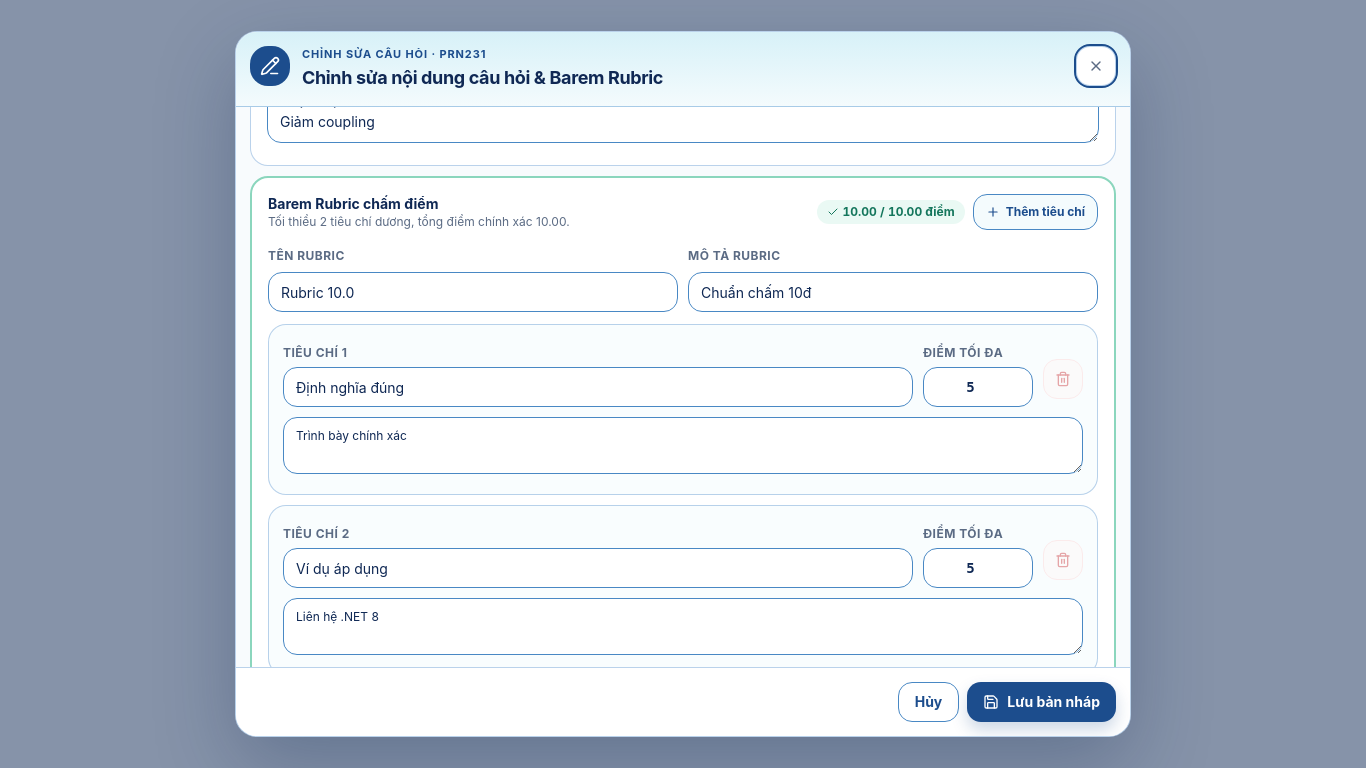
Test case: EditQuestionDraftDialog — MF-05 SELECTED_CLOS CLO guard › rejects 1e-9 (< 0.01) and 5.000000001 criterion scores so maxScore=0 is never submitted
(page scrolled)
Expected: the button "Lưu bản nháp" is enabled, 967,682 -> 1116,722
Replace the text in the 1st number field labelled "Điểm tối đa" with "1e-9". click: coordinates (978, 387)
box: 923,367 -> 1033,407
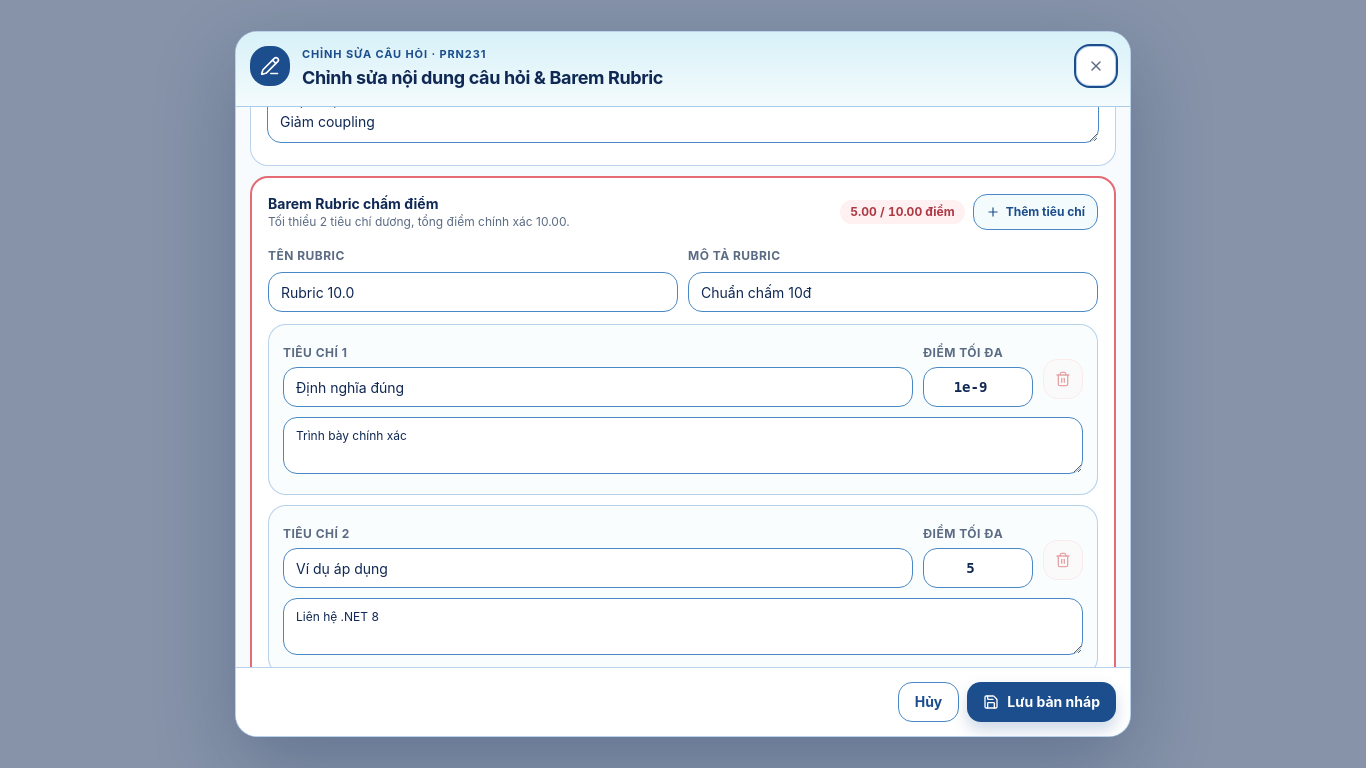
Replace the text in the 2nd number field labelled "Điểm tối đa" with "10". click: coordinates (978, 568)
box: 923,548 -> 1033,588
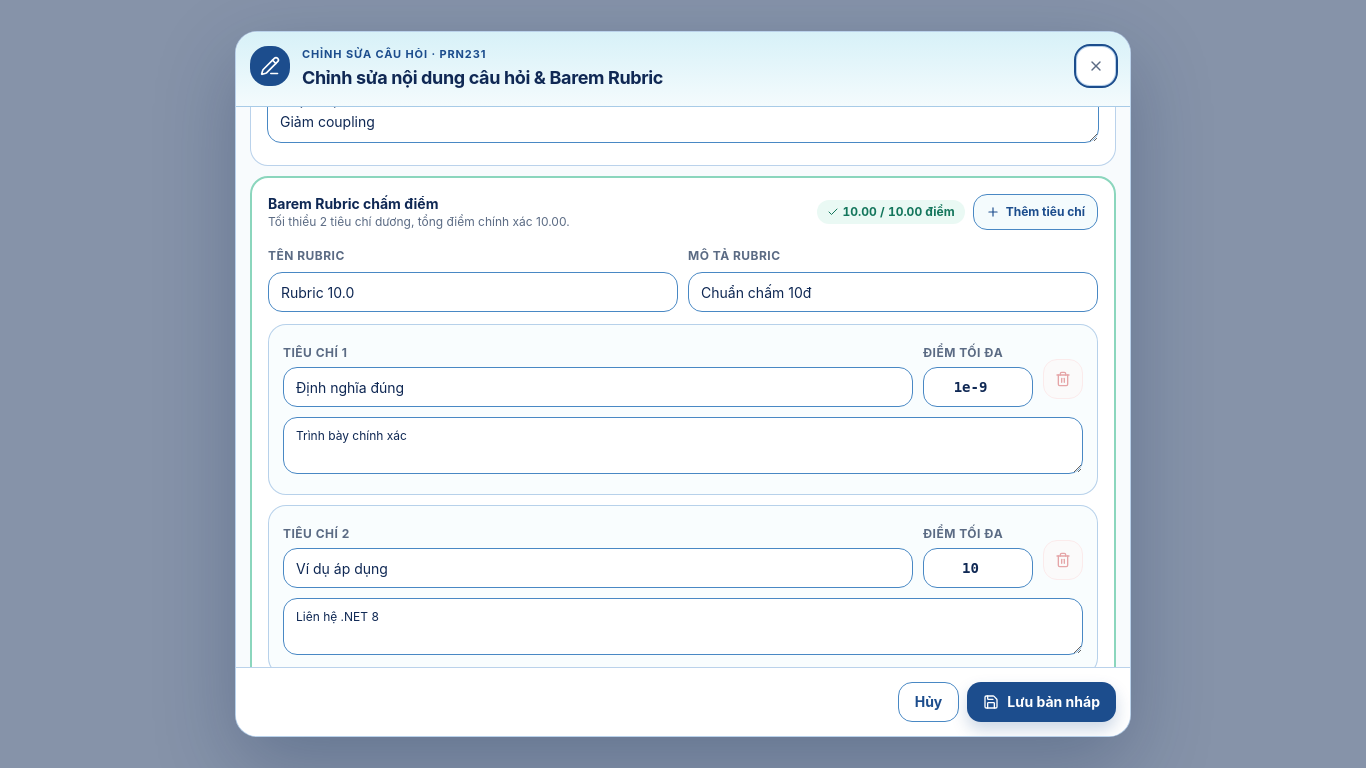
Click the button "Lưu bản nháp". click: coordinates (1042, 702)
box: 967,682 -> 1116,722
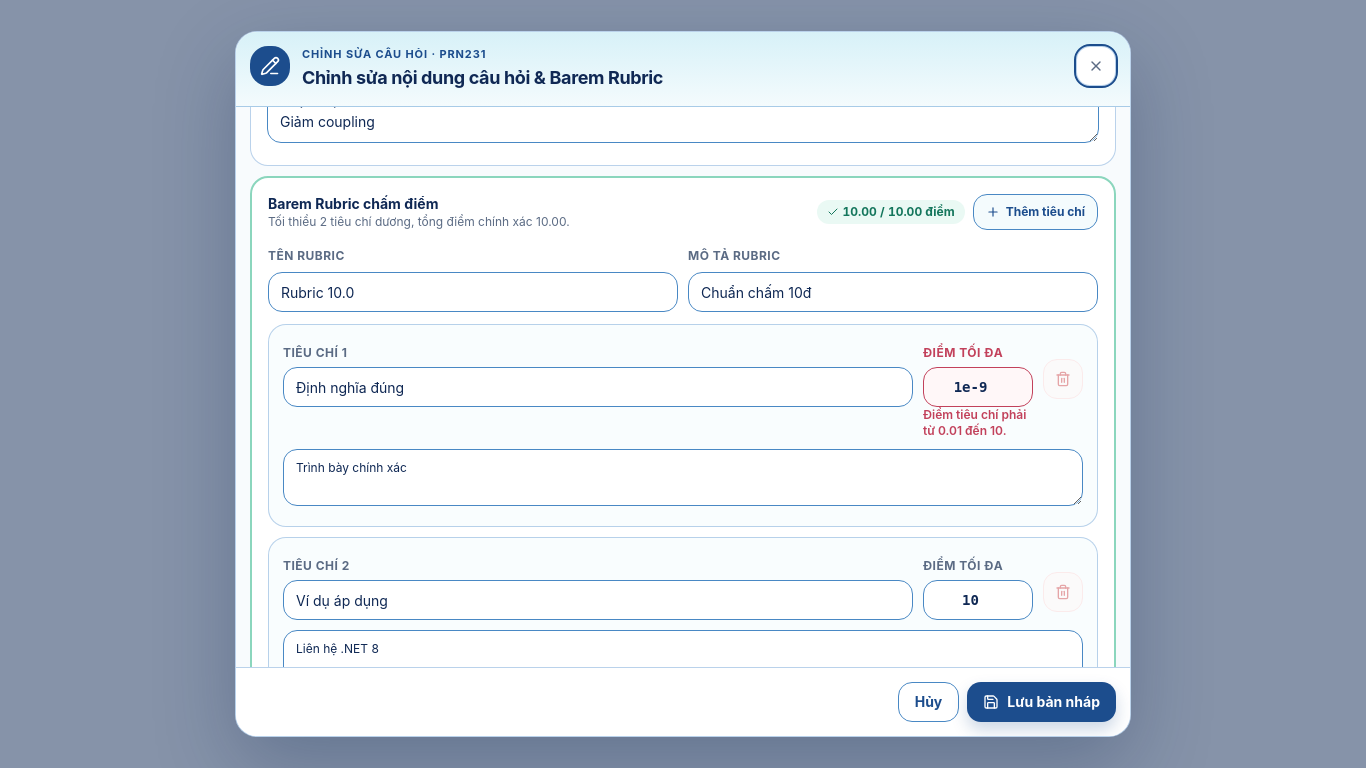
Expected: the text "Điểm tiêu chí phải từ 0.01 đến 10." is shown, 923,407 -> 1033,439
Replace the text in the number field labelled "Điểm tối đa" with "5". click: coordinates (978, 387)
box: 923,367 -> 1033,407
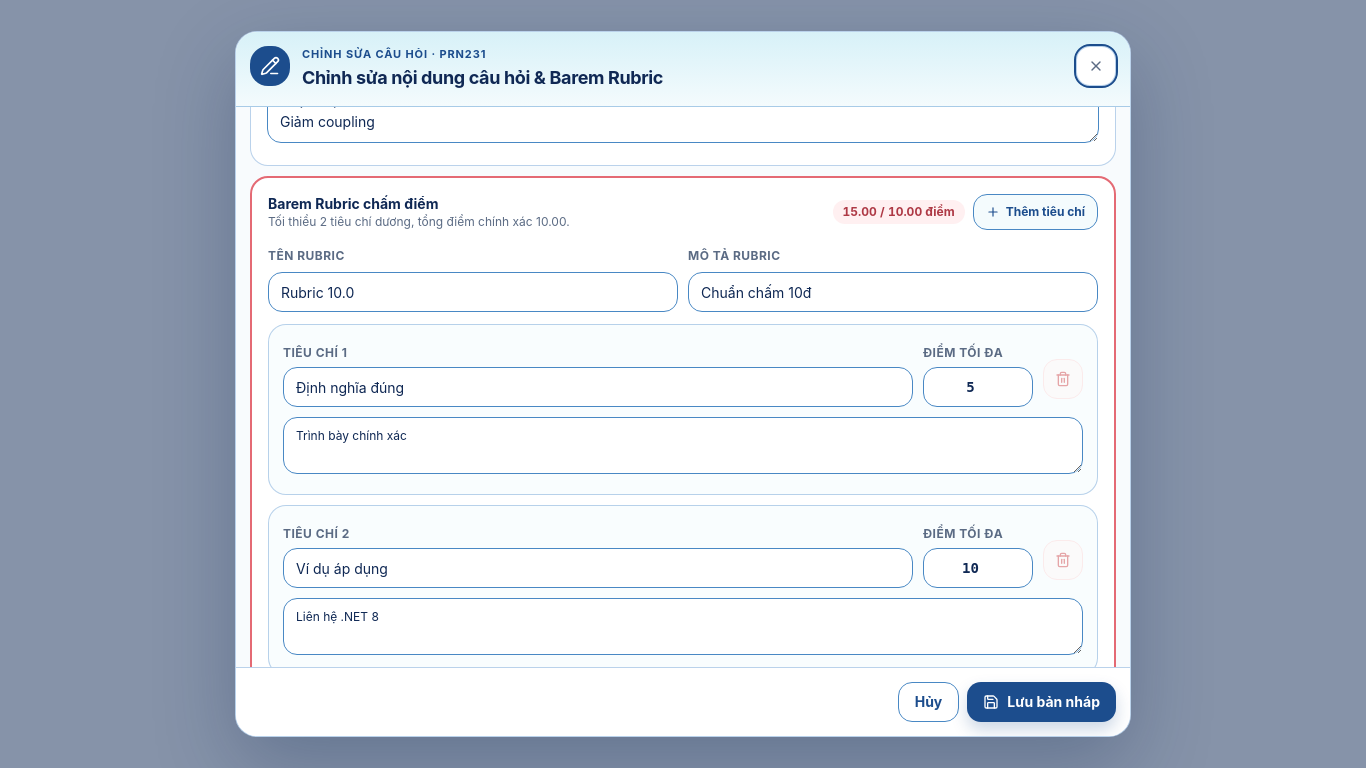
Replace the text in the 2nd number field labelled "Điểm tối đa" with "5.000000001". click: coordinates (978, 568)
box: 923,548 -> 1033,588
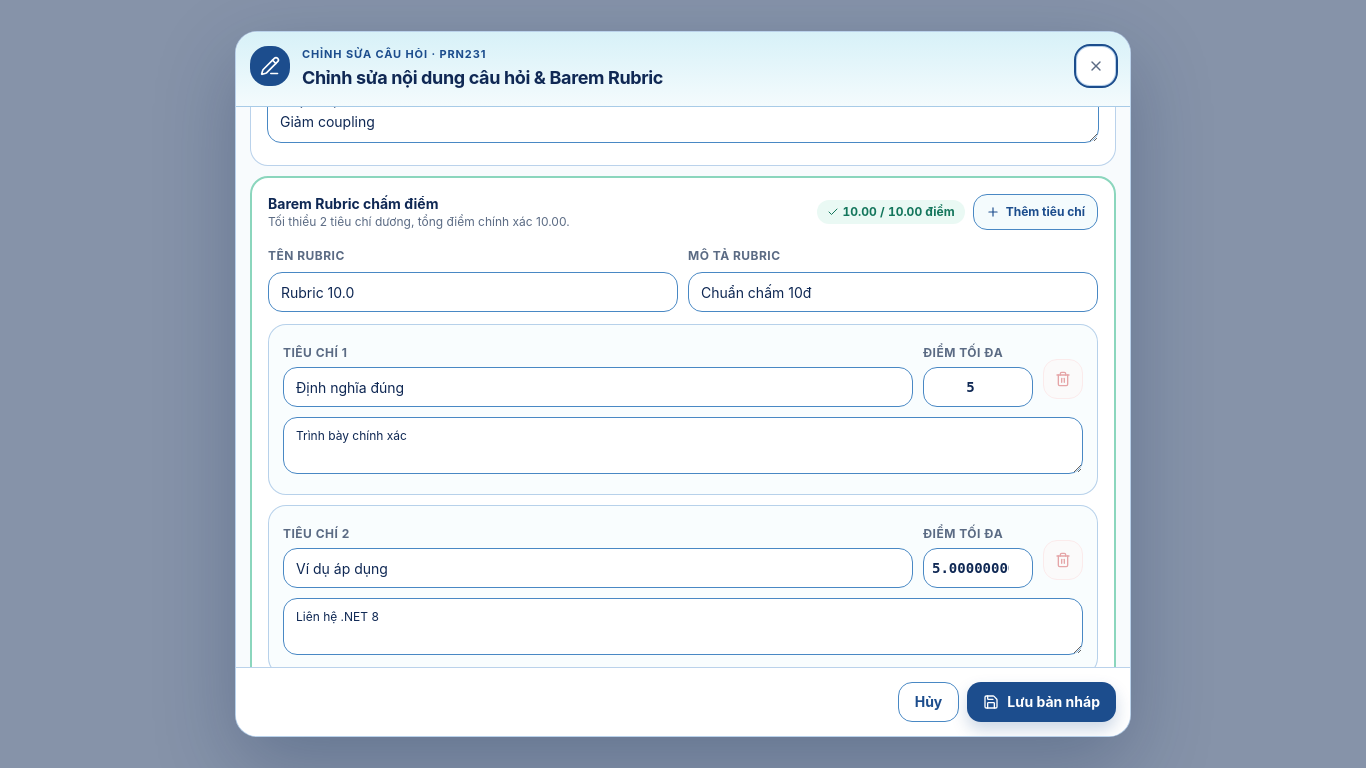
Click the button "Lưu bản nháp". click: coordinates (1042, 702)
box: 967,682 -> 1116,722
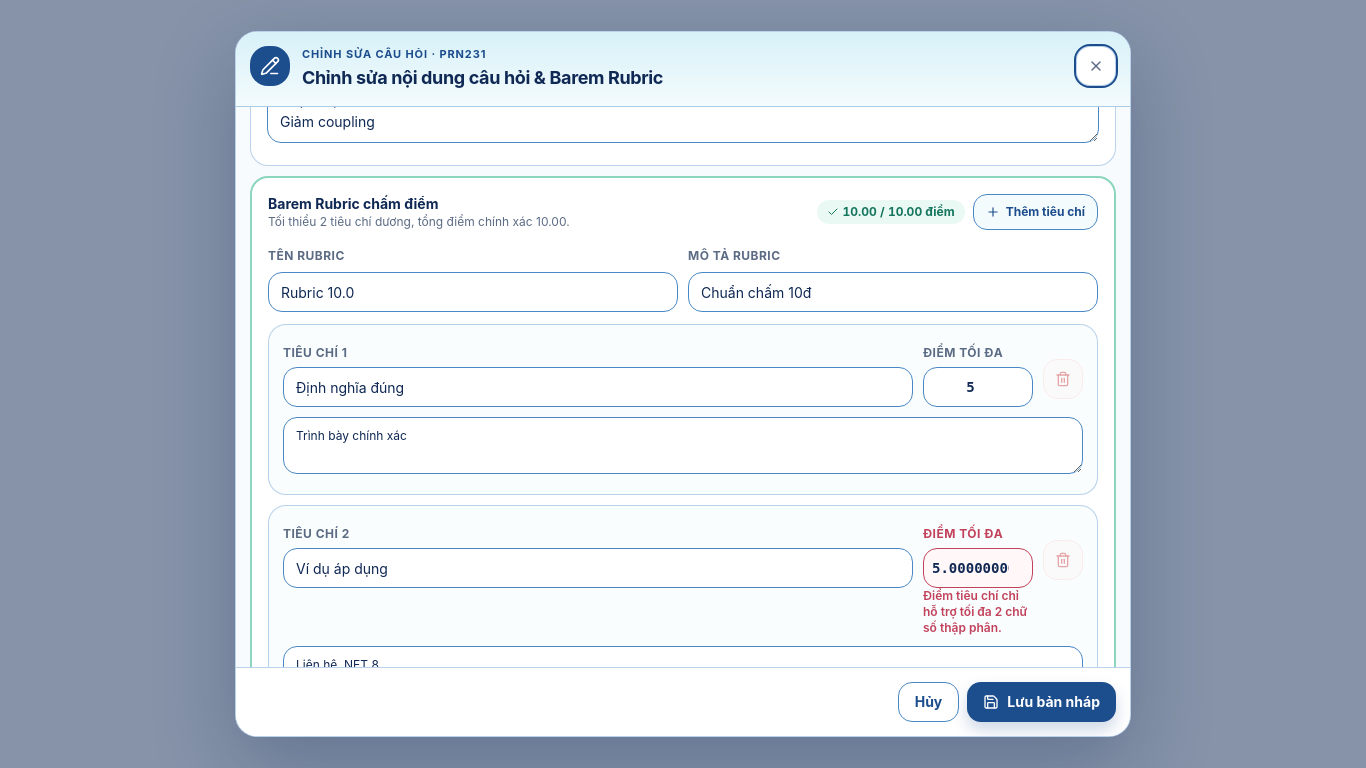
Expected: the text "Điểm tiêu chí chỉ hỗ trợ tối đa 2 chữ số thập phân." is shown, 923,588 -> 1033,636
